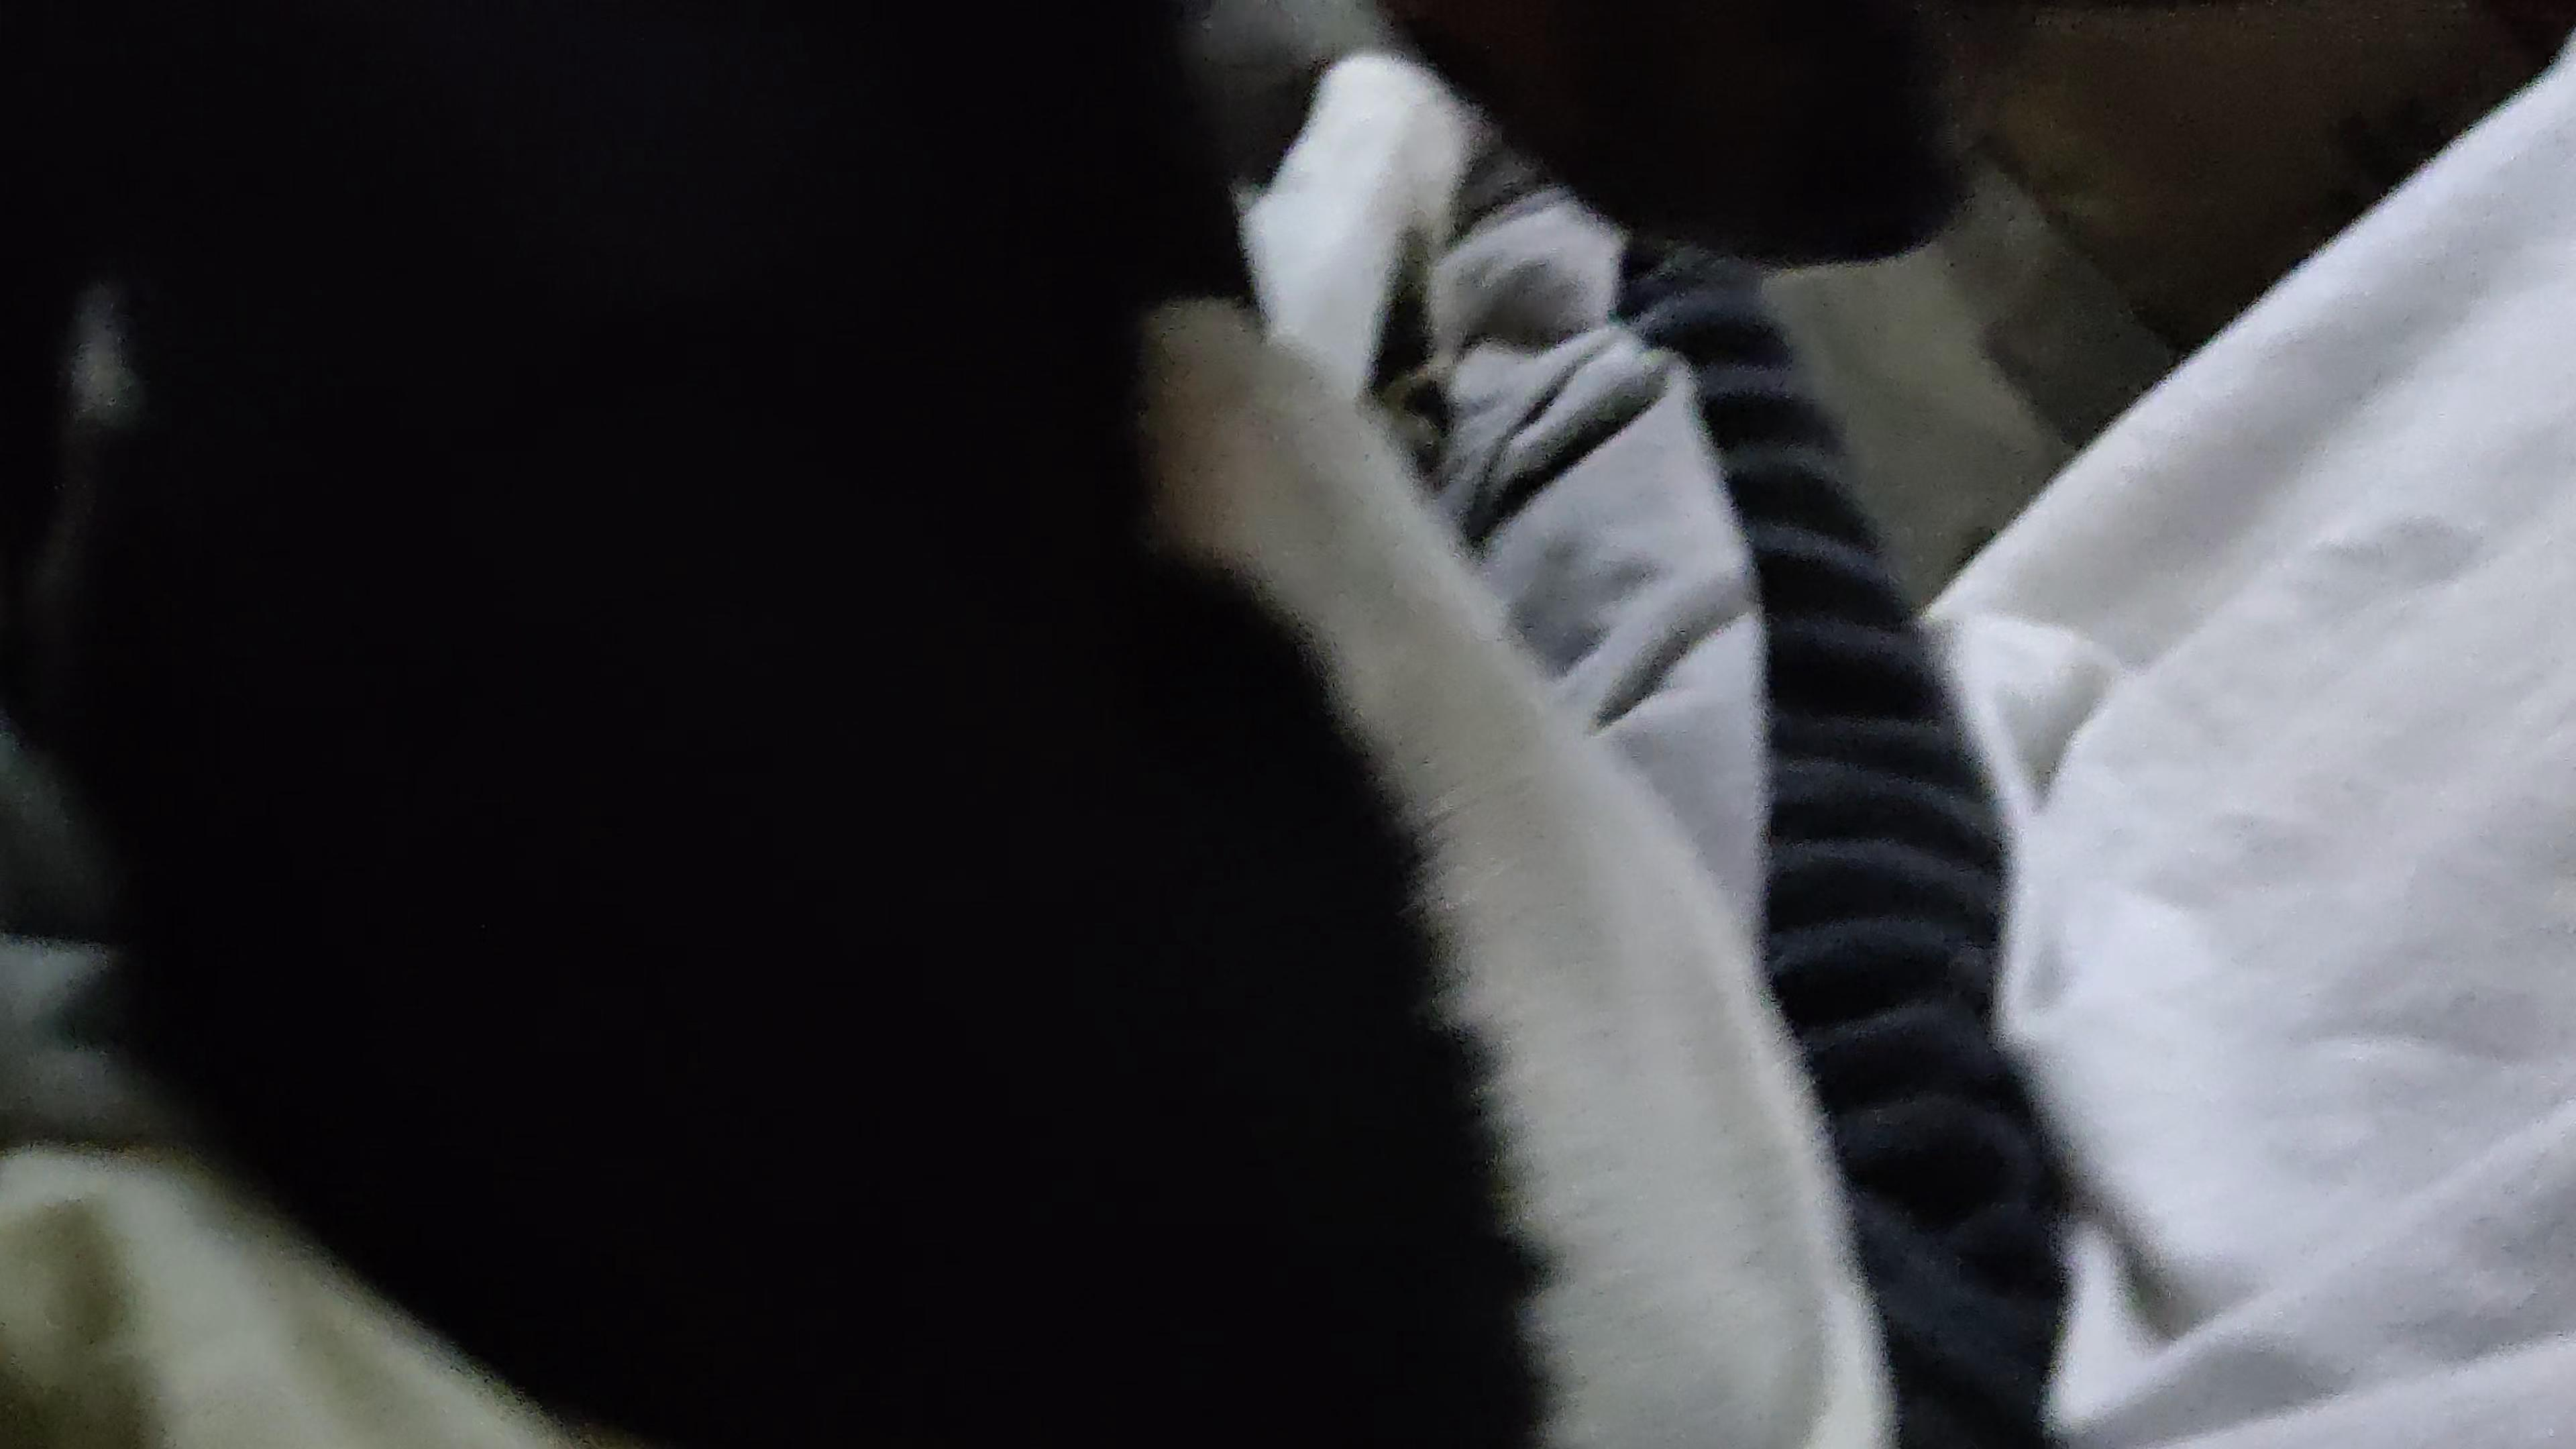Dog: (0, 0, 1989, 1449)
